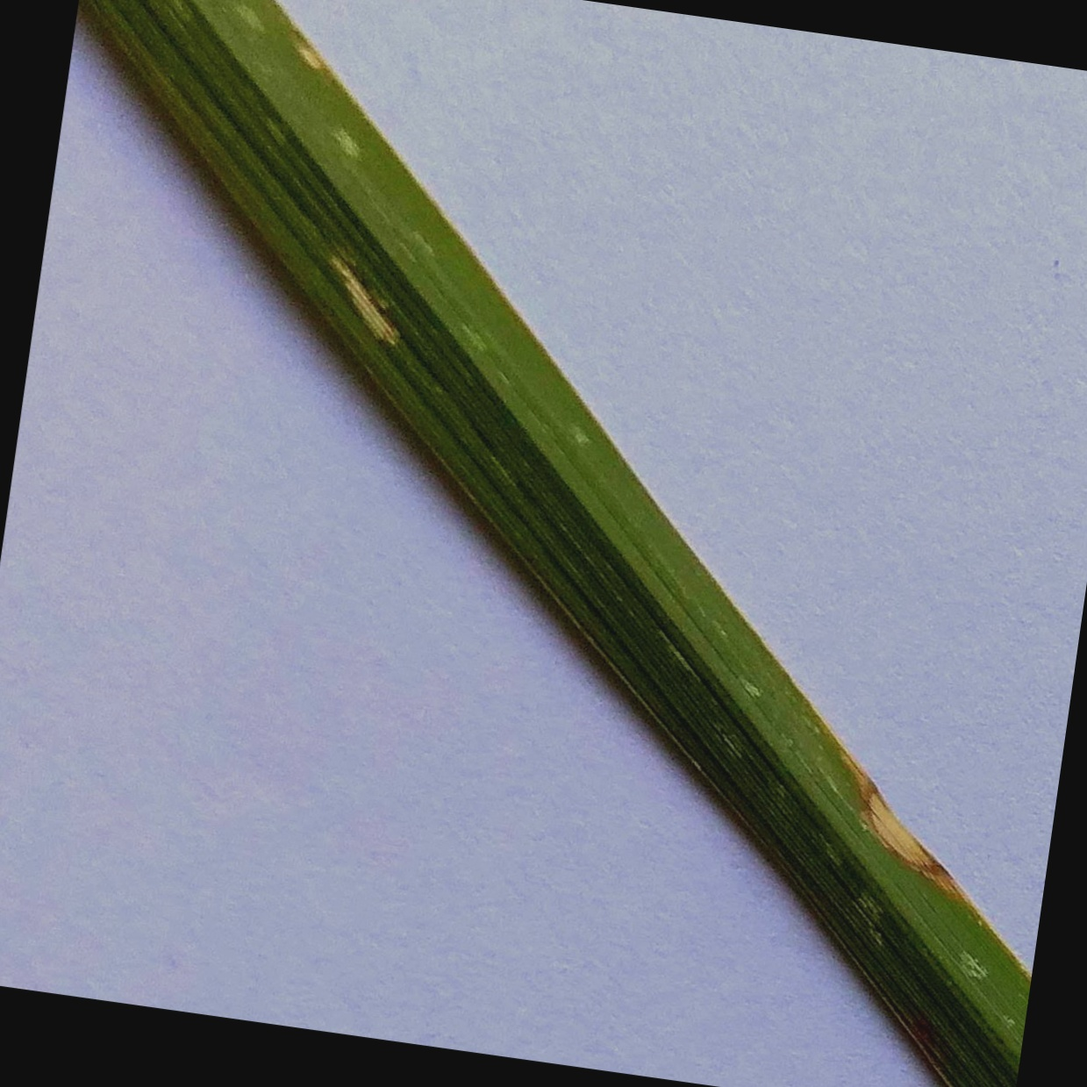Brown_Spot: (834, 753, 973, 878), (311, 228, 427, 353)
